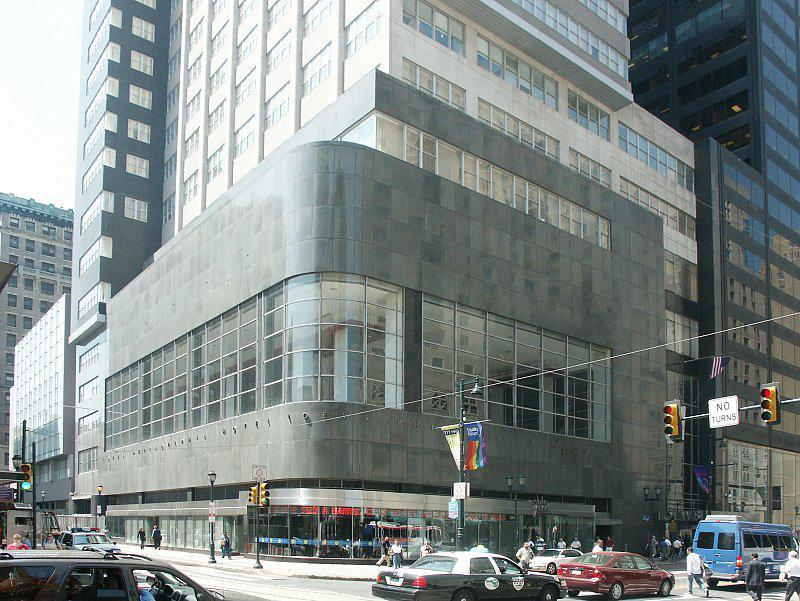affected: (74, 6, 706, 582)
